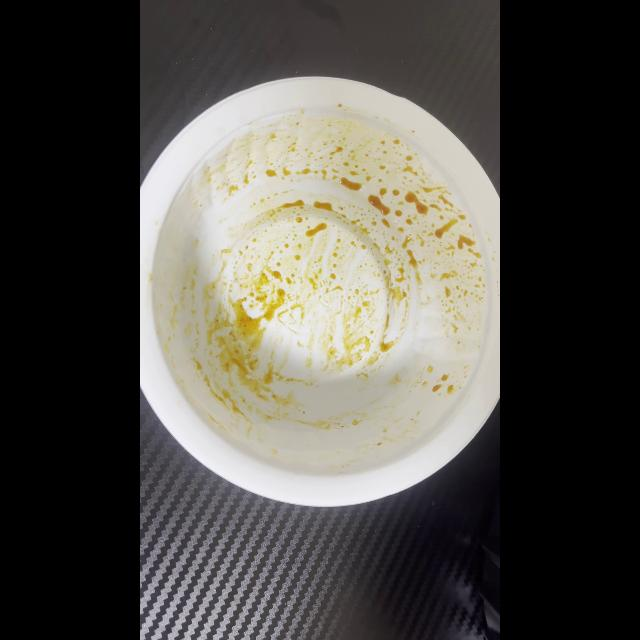dirty: (147, 120, 496, 472)
